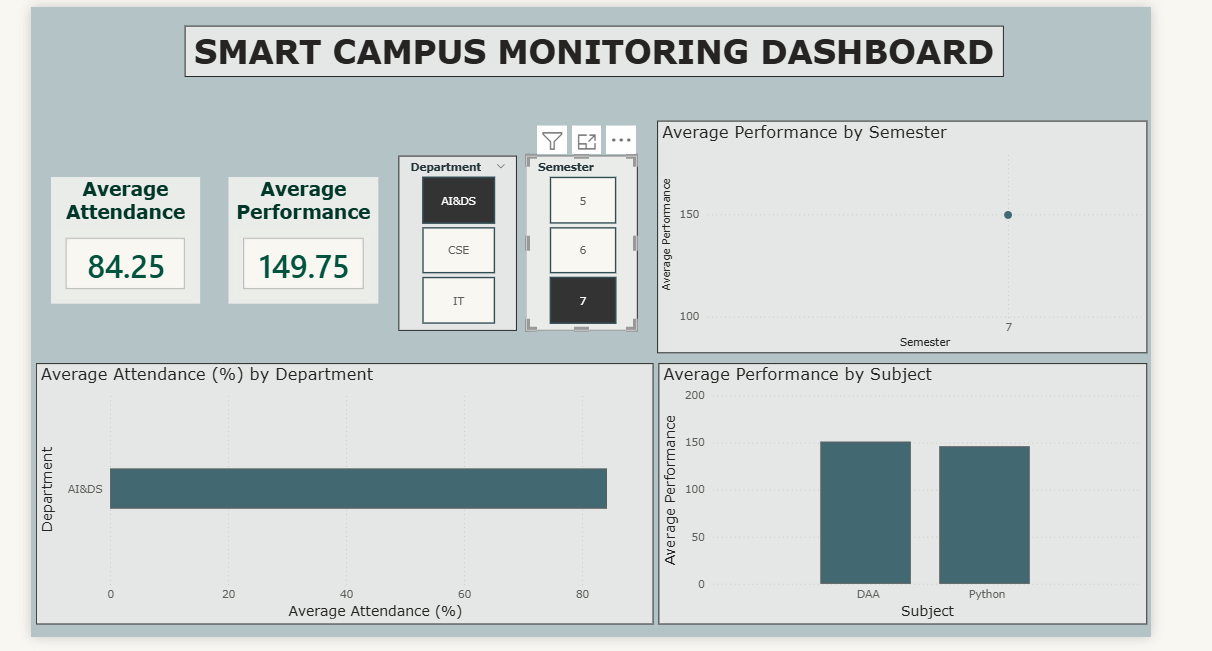

The dashboard page shown, as its layout file describes it:
{"tool":"powerbi","page":{"name":"Page 1","canvas":[1280,720],"ordinal":0},"visuals":[{"type":"cardVisual","title":"Average Attendance","fields":{"Data":["5 student_performance.Average Attendance (%)"]},"box":[23.2,194.3,170,145],"z":0},{"type":"clusteredBarChart","fields":{"Category":["5 student_performance.Department","5 student_performance.Subject","5 student_performance.Student_ID"],"Y":["5 student_performance.Average Attendance (%)"]},"box":[5.7,407.1,705.7,298.6],"z":1000},{"type":"clusteredColumnChart","fields":{"Category":["5 student_performance.Subject"],"Y":["5 student_performance.Average Performance"]},"box":[717.1,407.1,558.6,298.6],"z":2000},{"type":"lineChart","fields":{"Category":["5 student_performance.Semester"],"Y":["5 student_performance.Average Performance"]},"box":[715.7,130.6,560,265.7],"z":3000},{"type":"slicer","fields":{"Values":["5 student_performance.Department"]},"box":[420,169.4,135,200],"z":4000},{"type":"textbox","box":[175.7,21.4,935.7,58.6],"z":5000},{"type":"cardVisual","title":"Average Performance","fields":{"Data":["5 student_performance.Average Performance"]},"box":[225.7,194.3,171.2,145],"z":6000},{"type":"slicer","fields":{"Values":["5 student_performance.Semester"]},"box":[565.7,169.6,127.8,200],"z":7000}]}

Visuals, with their boxes in screenshot pixels (x1, y1, x2, y2):
"Average Attendance" cardVisual: x1=67 y1=180 x2=213 y2=304
clusteredBarChart - 5 student_performance.Department x 5 student_performance.Subject: x1=52 y1=362 x2=658 y2=619
clusteredColumnChart - 5 student_performance.Subject x 5 student_performance.Average Performance: x1=663 y1=362 x2=1143 y2=619
lineChart - 5 student_performance.Semester x 5 student_performance.Average Performance: x1=662 y1=125 x2=1143 y2=353
slicer - 5 student_performance.Department: x1=408 y1=158 x2=524 y2=330
textbox: x1=198 y1=31 x2=1002 y2=81
"Average Performance" cardVisual: x1=241 y1=180 x2=388 y2=304
slicer - 5 student_performance.Semester: x1=533 y1=158 x2=643 y2=330
